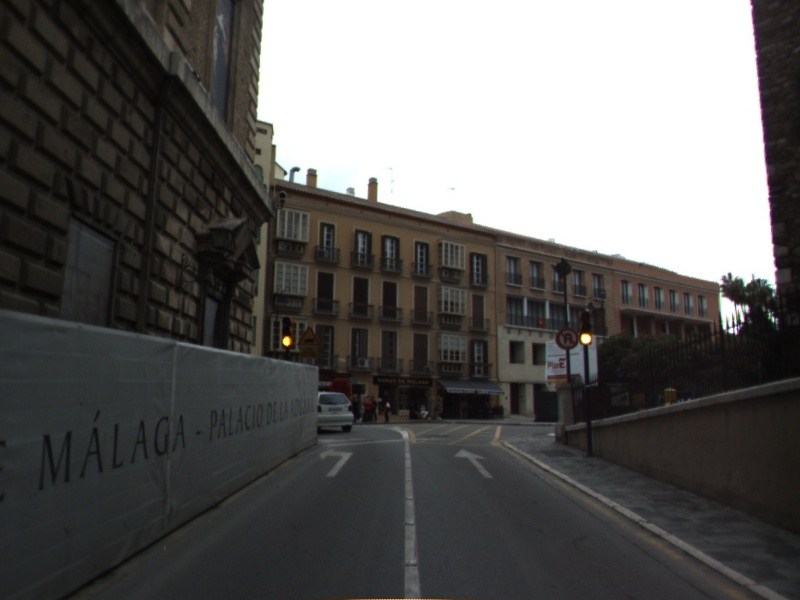LEFT: (317, 446, 354, 479)
STRAIGHT: (452, 446, 495, 480)
